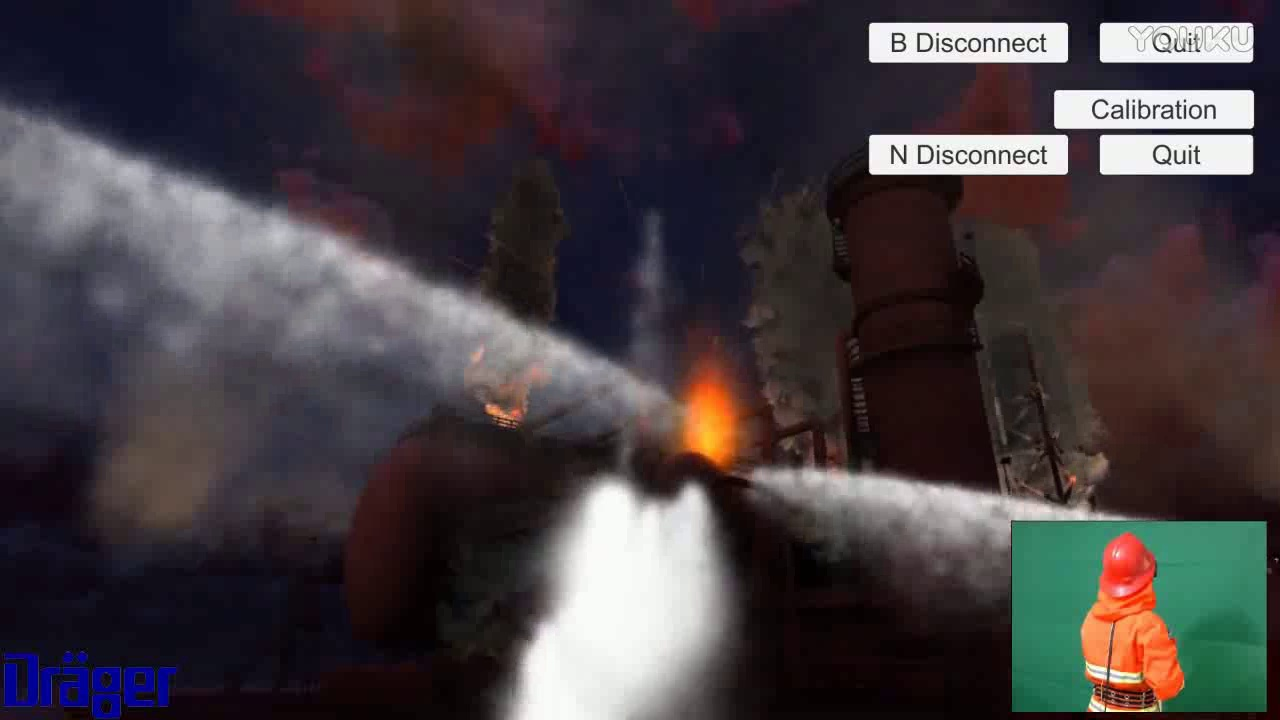fire: (683, 347, 742, 469)
